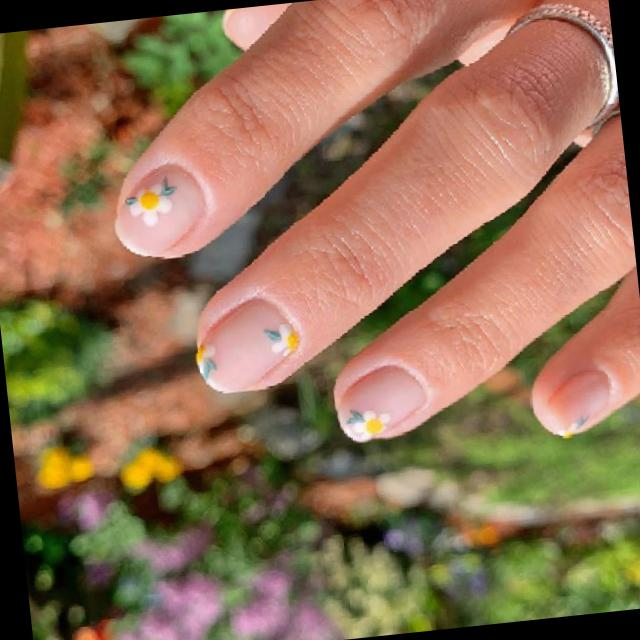Nail: (195, 298, 298, 391), (114, 165, 204, 254), (336, 365, 424, 440), (542, 369, 610, 433)
